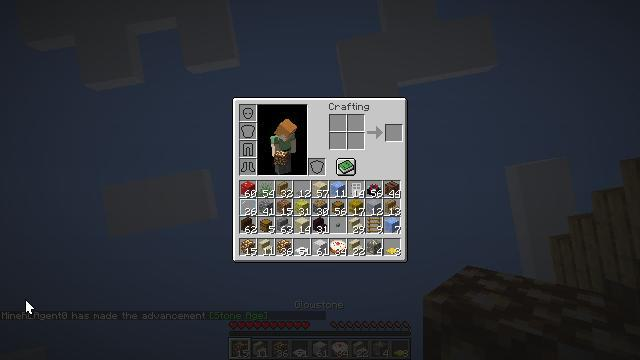cursor: (299, 25, 315, 35)
